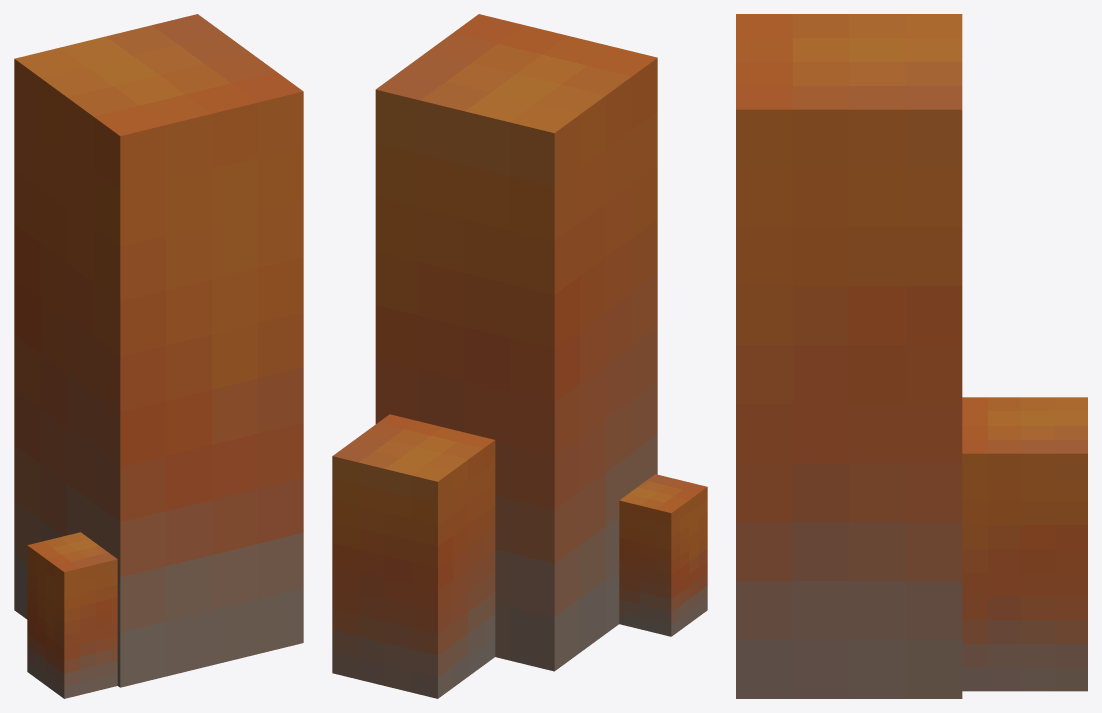
Rendered from crystal_three.obj.
The picture shows the model from 3 angles, left to right: view 1: azimuth 30°, elevation 25°; view 2: azimuth 150°, elevation 25°; view 3: azimuth 270°, elevation 25°; orthographic projection. The views are drawn at different scales.
Parts seen in each view (by area): view 1: Crystal5_Cube.008; view 2: Crystal5_Cube.008; view 3: Crystal5_Cube.008.
Boxes of the visible parts, <box> form: Crystal5_Cube.008: <box>14,14,303,698</box>; Crystal5_Cube.008: <box>332,14,707,698</box>; Crystal5_Cube.008: <box>736,14,1087,698</box>.
Size of the model in its own units: 0.1959 by 0.4361 by 0.2358.
